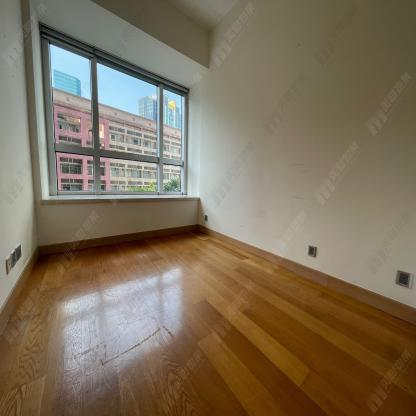Windowsill: (24, 15, 201, 207)
